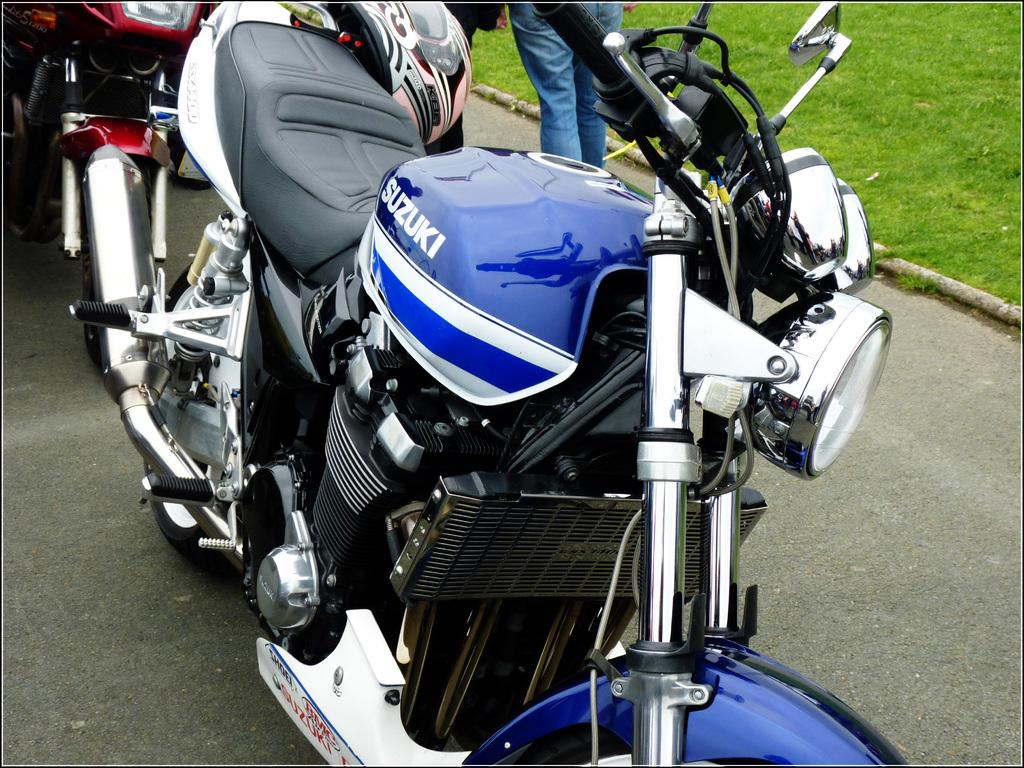helmet: (327, 1, 473, 145)
